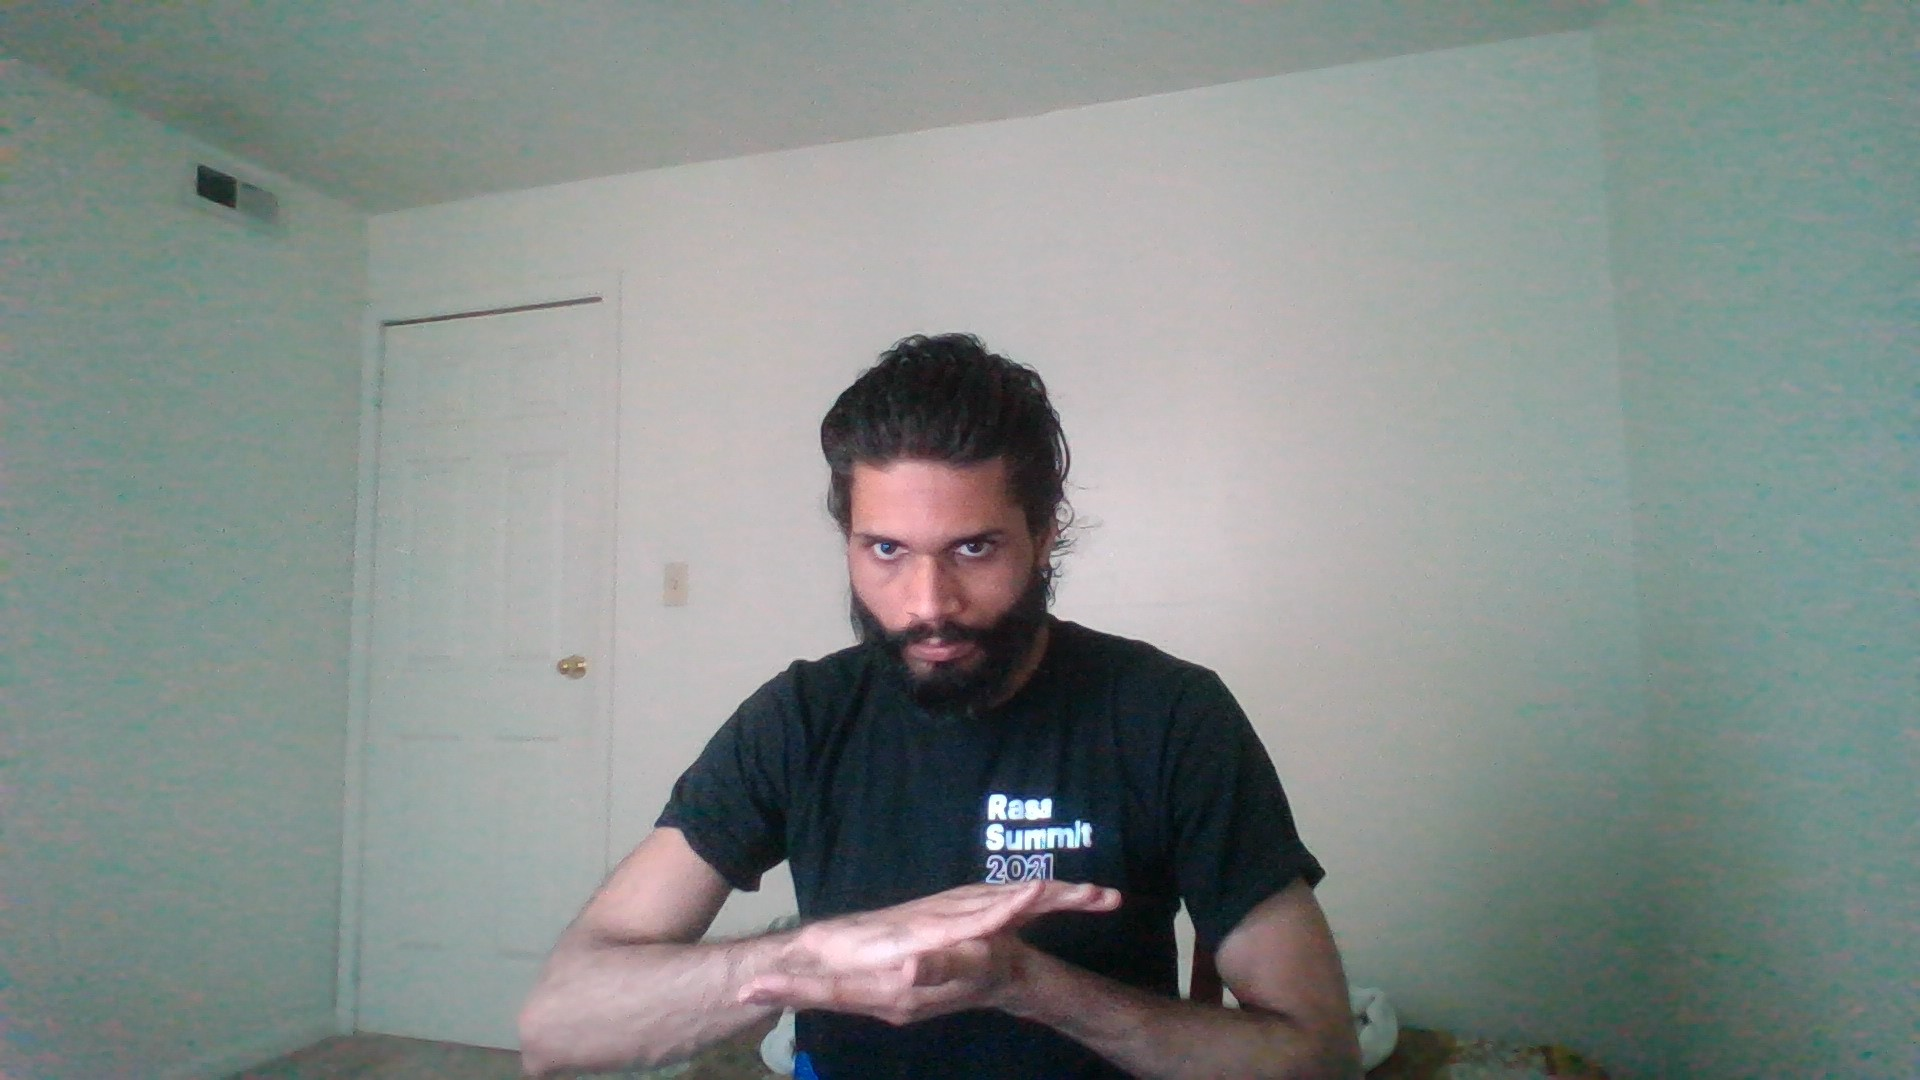Cheese: (682, 806, 1156, 1058)
